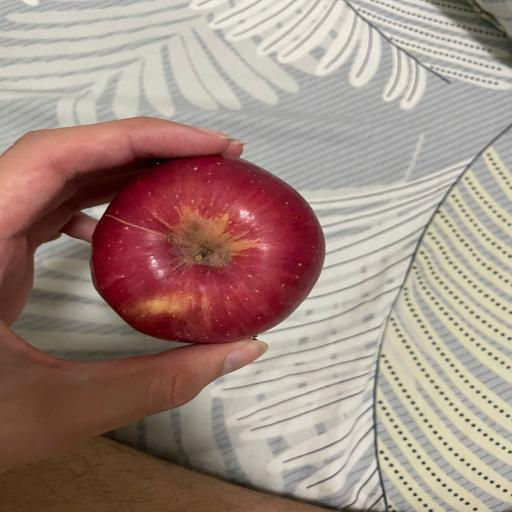apple: (90, 155, 325, 343)
